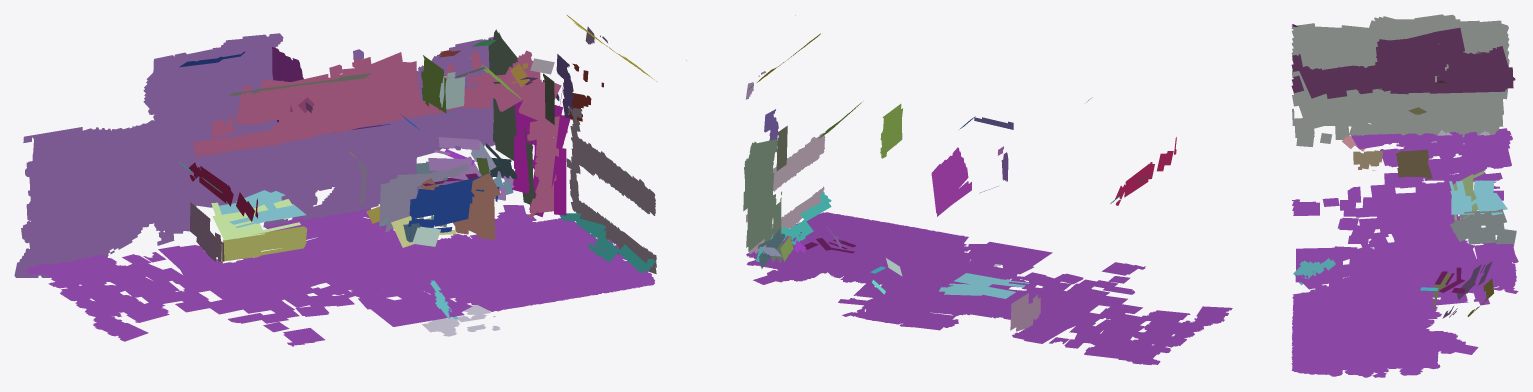
File: 3864514494_simple.glb
3 renders of one model, left to right at view 1: azimuth 30°, elevation 25°; view 2: azimuth 150°, elevation 25°; view 3: azimuth 270°, elevation 25°, orthographic. The views are drawn at different scales.
Bounding box in the file's own units: 5.4 × 2.26 × 2.34.
